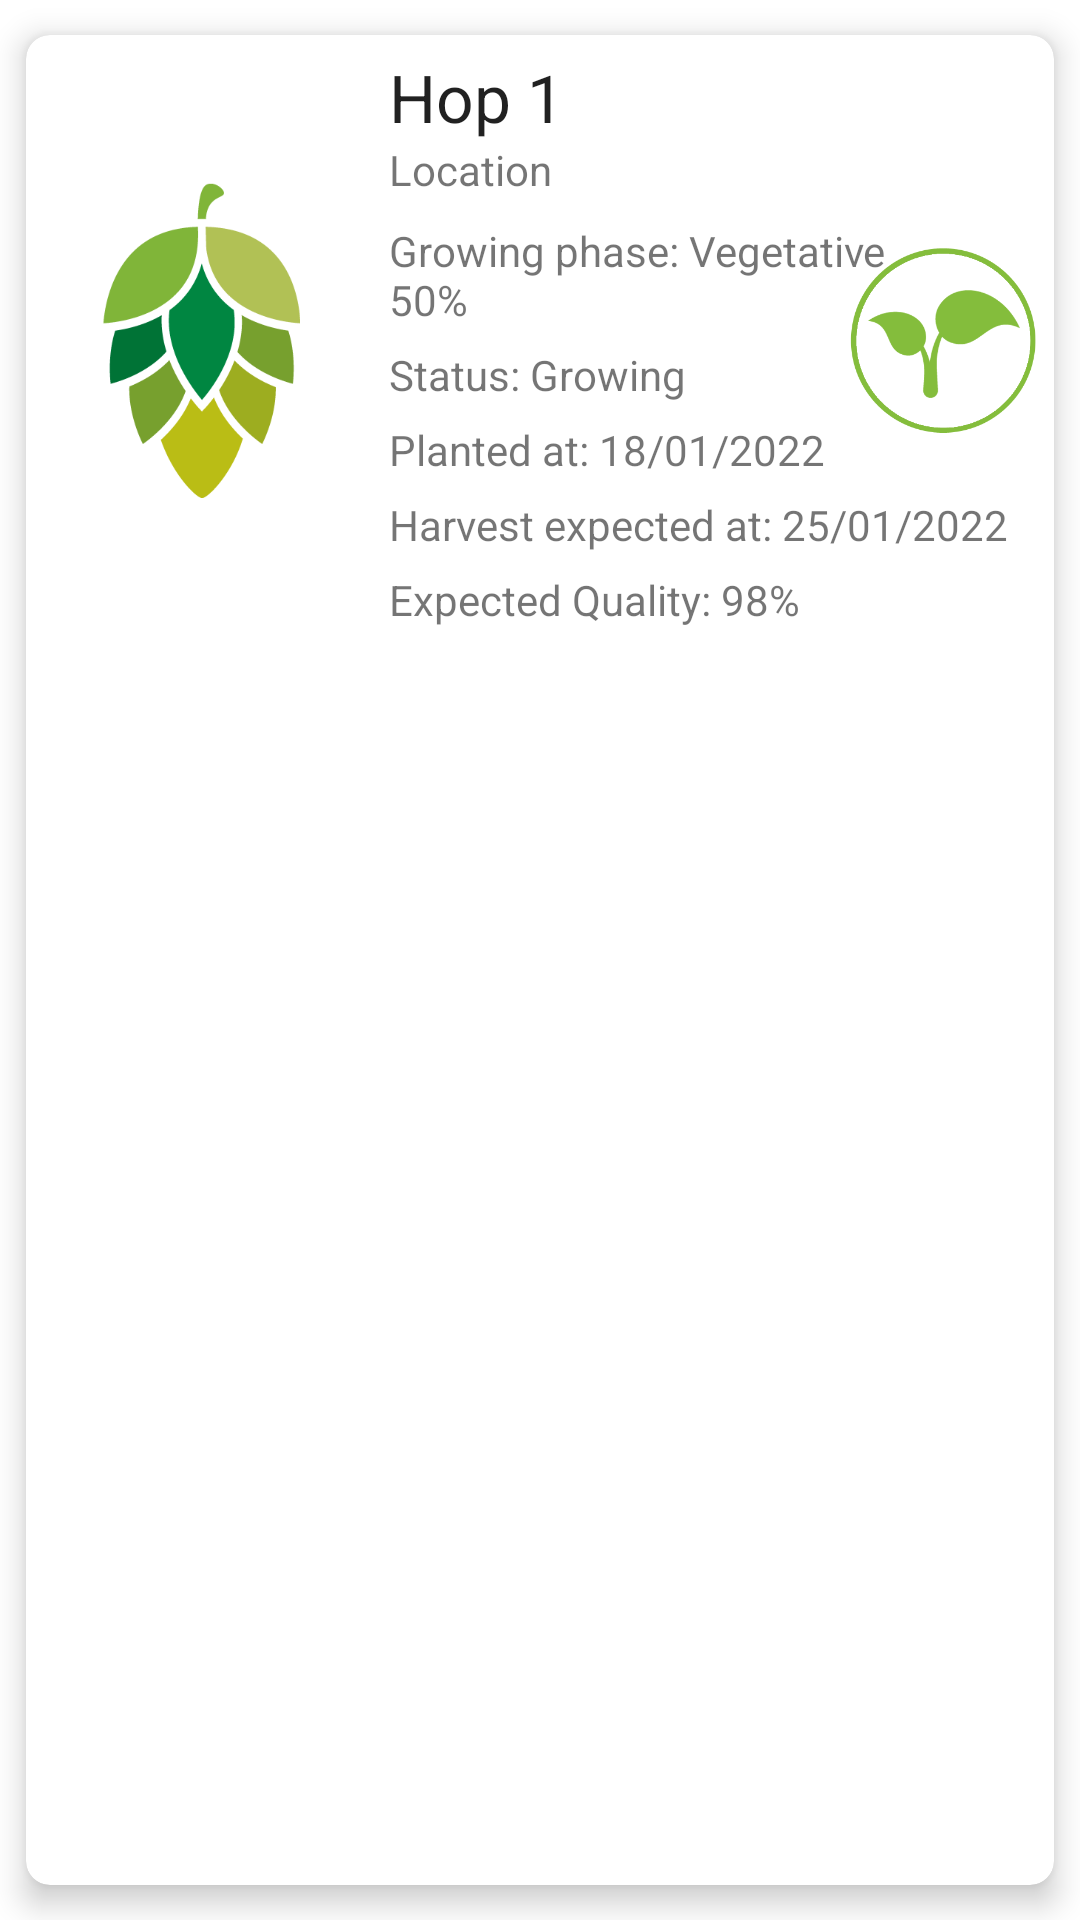

Icon bounding boxes for this 1080×1920 phone screenshot, format (x1, y1, x2, y2):
hop cone: (103, 183, 300, 498)
plant growing: (850, 247, 1036, 433)
